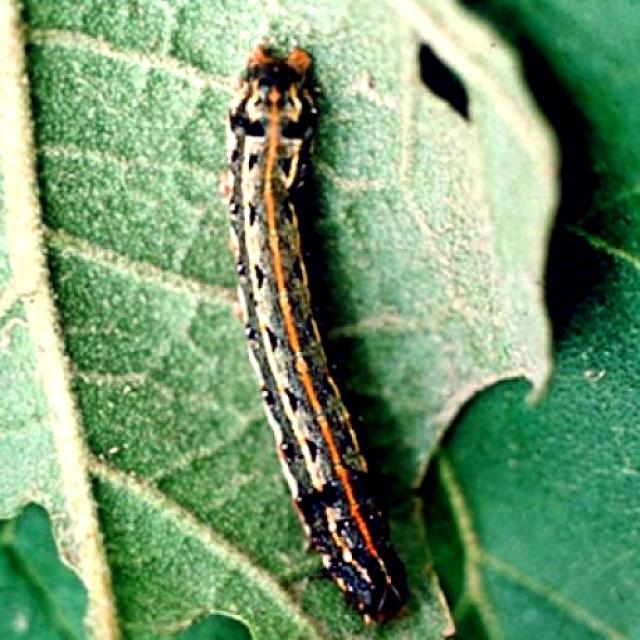armyworm: (217, 39, 410, 627)
